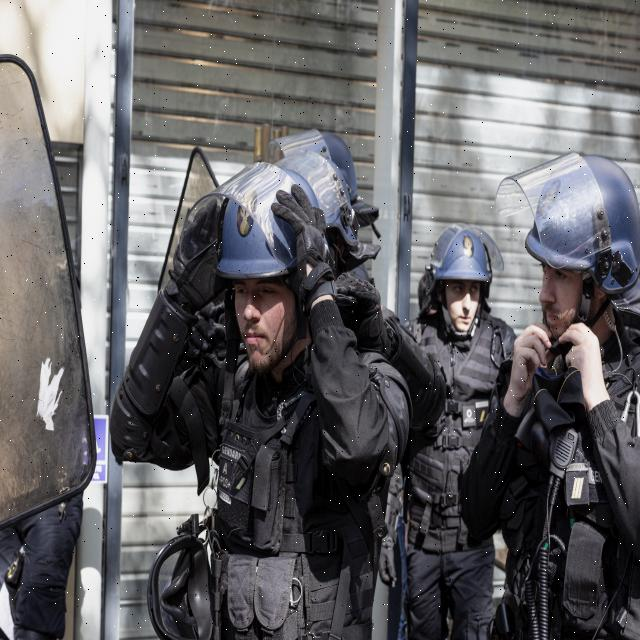police: (120, 106, 399, 640), (483, 148, 640, 640), (376, 213, 534, 638)
